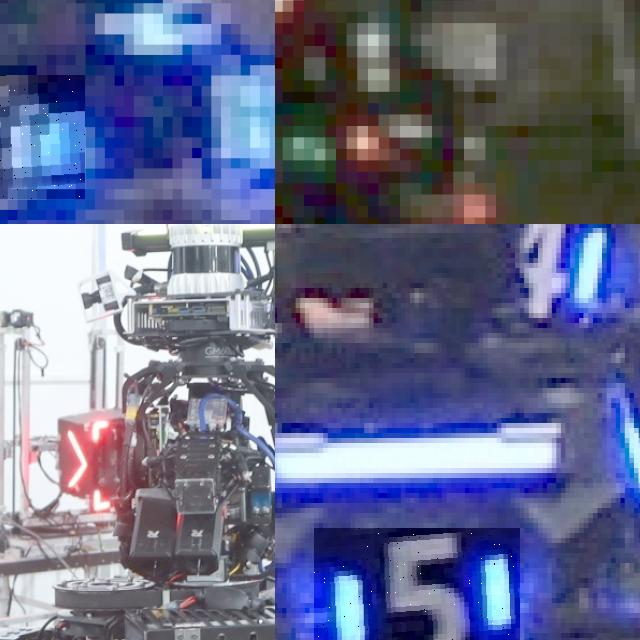B3: (0, 75, 85, 199)
B4: (492, 224, 615, 318)
B5: (314, 528, 519, 640)
